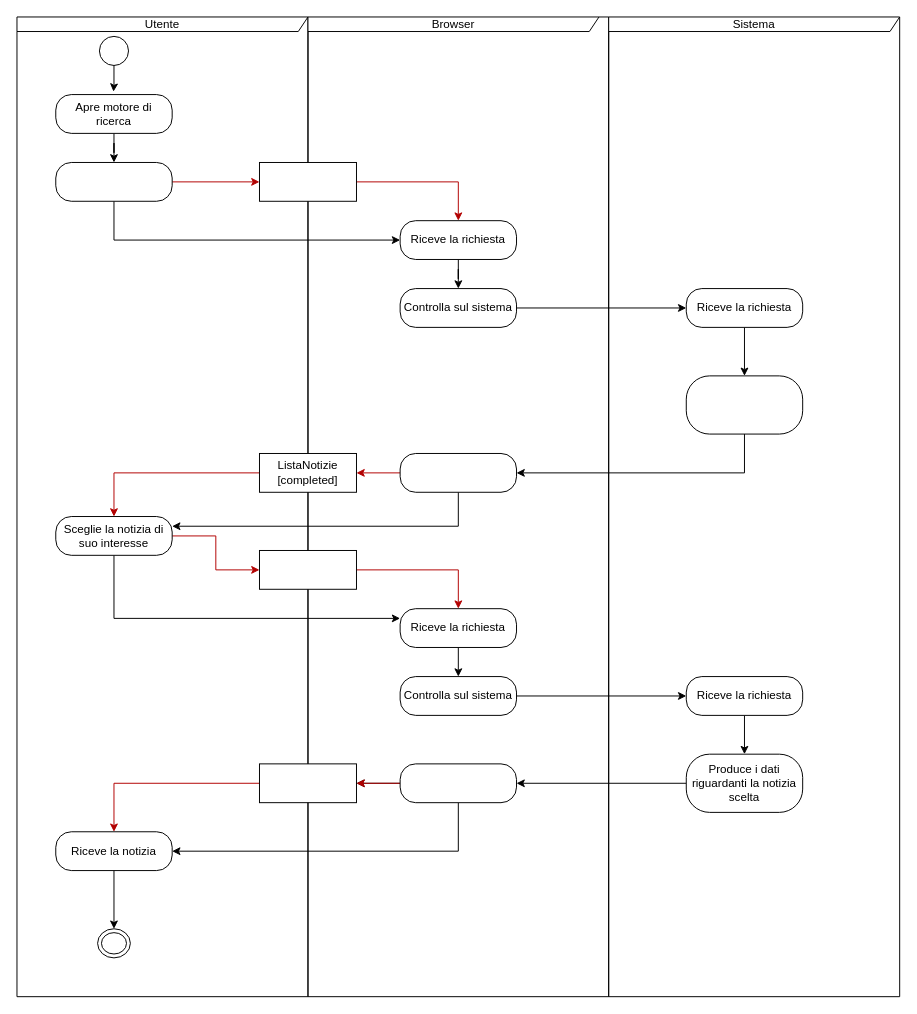
This 917x1014 diagram has some shape labels left out. The shapes that lost their labels are listed below. From the top down, each one's box as (x1, y1, x2, y2) in pixels, then its label:
(55, 162, 172, 201): Ricerca notizie di un dato argomento
(259, 162, 356, 201): ListaNotizie [in progress]
(685, 375, 803, 434): Produce la liista di notizie pertiinenti all'argomento
(399, 453, 517, 492): Fornisce la lista all'utente
(259, 550, 356, 589): Notizia [in progress]
(259, 763, 356, 803): Notizia [completed]
(399, 763, 517, 803): Fornisce la notizia al utente
